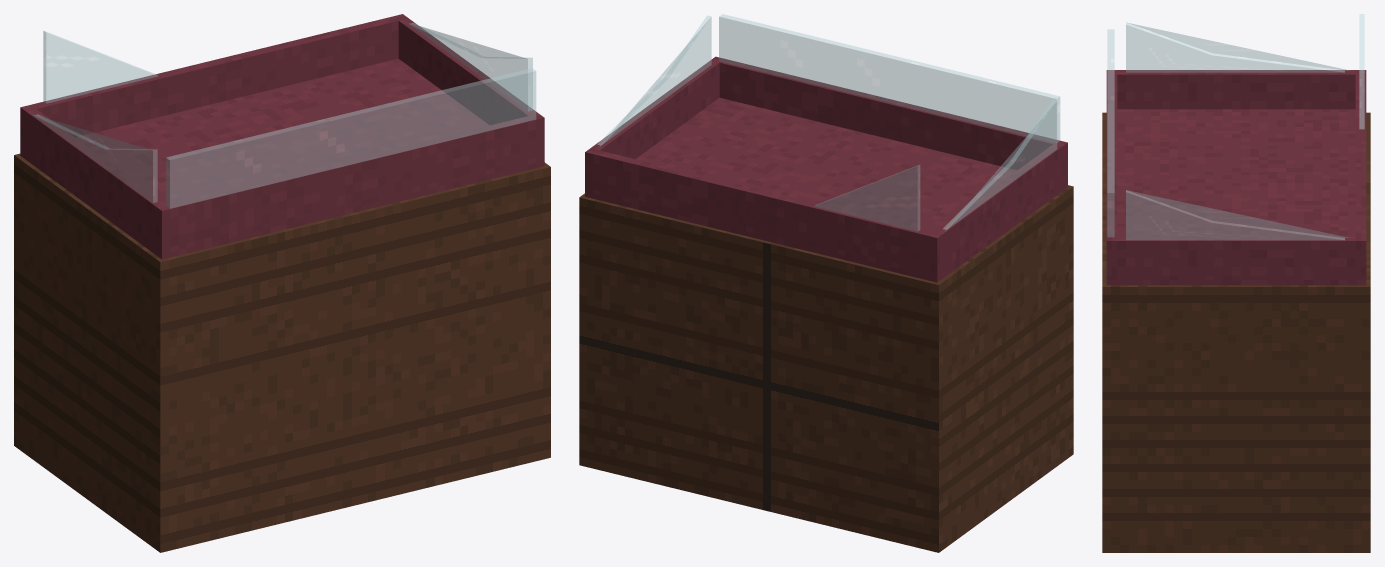
File: f_displaycase_b.glb
3 views of the same model, side by side, from view 1: azimuth 30°, elevation 25°; view 2: azimuth 150°, elevation 25°; view 3: azimuth 270°, elevation 25° (orthographic). The views are drawn at different scales.
Visible parts, largest first — view 1: block_wood-cabinet, block_velvet-bed-base, block_back-glass, block_velvet-bed-end-1, block_velvet-bed-end--1, block_side-glass-remnant (×2), block_velvet-bed-side--1, block_velvet-bed-side-1, block_glass-shard; view 2: block_wood-cabinet, block_velvet-bed-base, block_back-glass, block_velvet-bed-end--1, block_velvet-bed-end-1, block_side-glass-remnant (×2), block_velvet-bed-side--1, block_velvet-bed-side-1, block_glass-shard; view 3: block_wood-cabinet, block_velvet-bed-base, block_side-glass-remnant (×2), block_velvet-bed-side--1, block_velvet-bed-side-1, block_velvet-bed-end--1, block_velvet-bed-end-1, block_back-glass, block_glass-shard.
Boxes of the visible parts, x1=… form: block_wood-cabinet: x1=14, y1=153, x2=550, y2=552; block_velvet-bed-base: x1=20, y1=58, x2=544, y2=259; block_back-glass: x1=166, y1=68, x2=536, y2=208; block_velvet-bed-end-1: x1=156, y1=113, x2=544, y2=248; block_velvet-bed-end--1: x1=20, y1=14, x2=408, y2=148; block_side-glass-remnant (×2): x1=31, y1=22, x2=532, y2=202; block_velvet-bed-side--1: x1=26, y1=109, x2=165, y2=244; block_velvet-bed-side-1: x1=398, y1=18, x2=538, y2=125; block_glass-shard: x1=43, y1=31, x2=157, y2=103; block_wood-cabinet: x1=579, y1=185, x2=1073, y2=552; block_velvet-bed-base: x1=585, y1=97, x2=1067, y2=282; block_back-glass: x1=719, y1=14, x2=1060, y2=142; block_velvet-bed-end--1: x1=585, y1=148, x2=942, y2=272; block_velvet-bed-end-1: x1=710, y1=56, x2=1067, y2=180; block_side-glass-remnant (×2): x1=597, y1=15, x2=1057, y2=230; block_velvet-bed-side--1: x1=934, y1=144, x2=1062, y2=268; block_velvet-bed-side-1: x1=591, y1=60, x2=719, y2=159; block_glass-shard: x1=814, y1=164, x2=920, y2=231; block_wood-cabinet: x1=1102, y1=112, x2=1370, y2=552; block_velvet-bed-base: x1=1106, y1=109, x2=1366, y2=285; block_side-glass-remnant (×2): x1=1126, y1=22, x2=1349, y2=240; block_velvet-bed-side--1: x1=1117, y1=70, x2=1355, y2=109; block_velvet-bed-side-1: x1=1117, y1=236, x2=1355, y2=275; block_velvet-bed-end--1: x1=1355, y1=70, x2=1366, y2=275; block_velvet-bed-end-1: x1=1106, y1=70, x2=1117, y2=275; block_back-glass: x1=1107, y1=29, x2=1114, y2=237; block_glass-shard: x1=1359, y1=14, x2=1364, y2=129.
Size of the model in its own units: 0.97 by 0.976 by 0.63.
2 materials, 2 textured.
